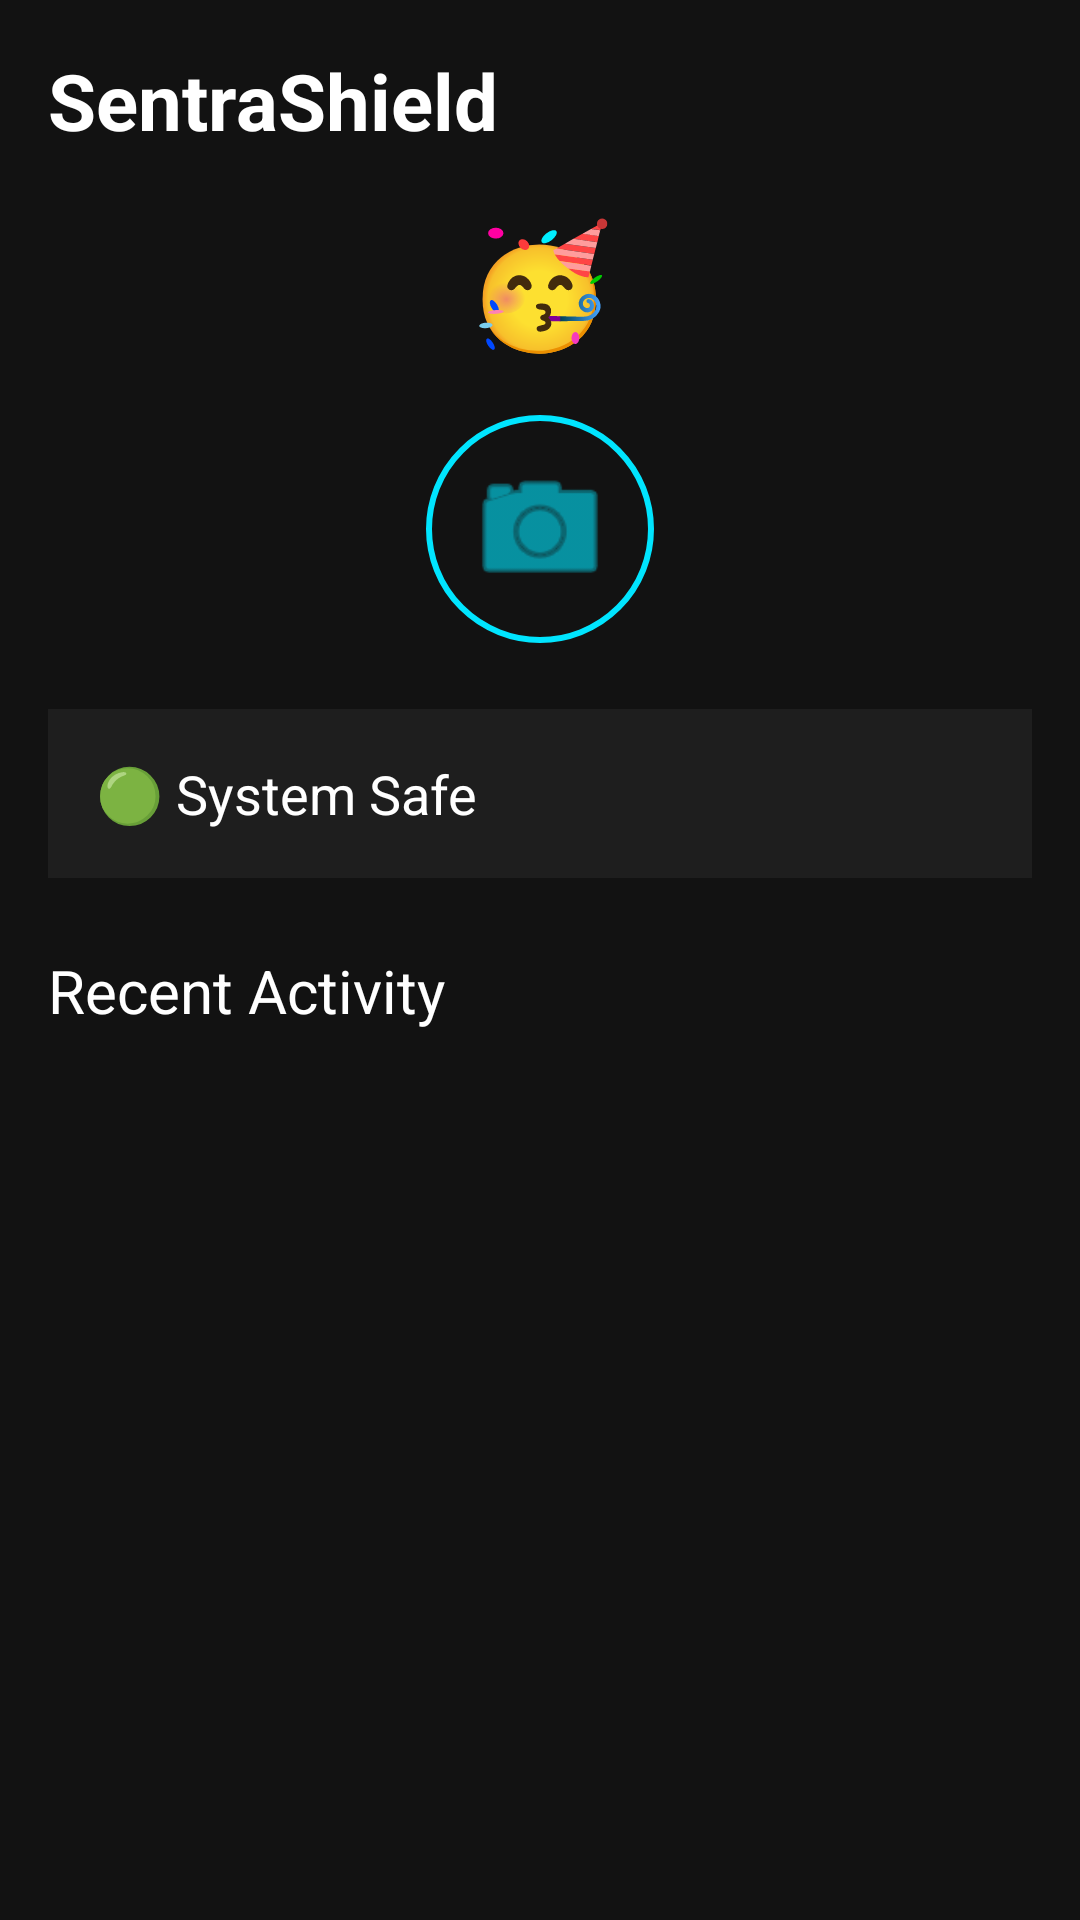

Named icons in this screenshot (1080×1920) and their bounding boxes, [x1,y1,x2,y2]:
camera: [482,480,598,573]
